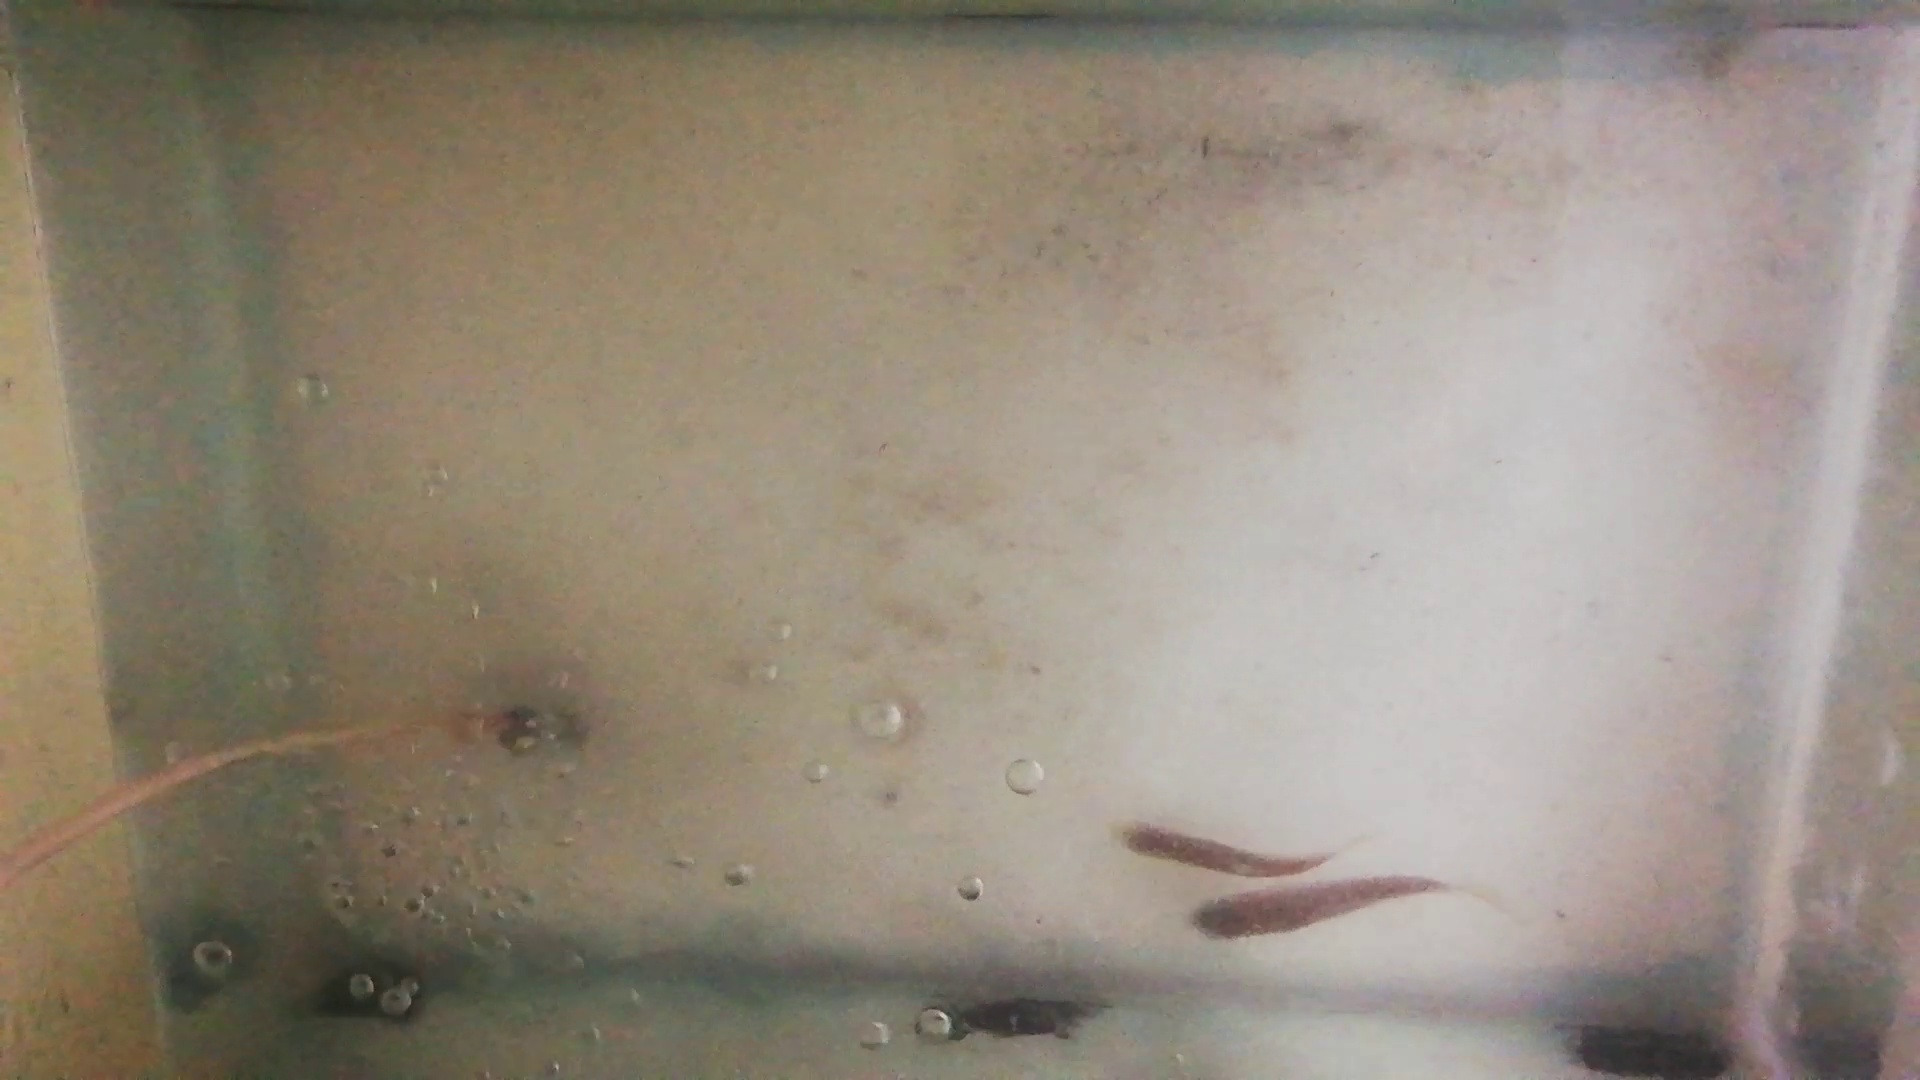fish: (1187, 873, 1448, 939), (1114, 822, 1331, 880)
